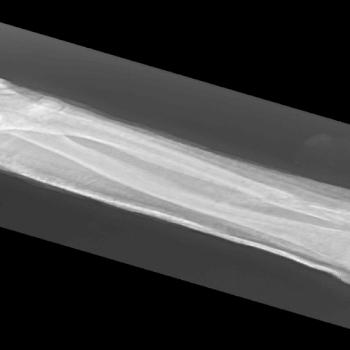Fracture: (257, 186, 318, 208)
